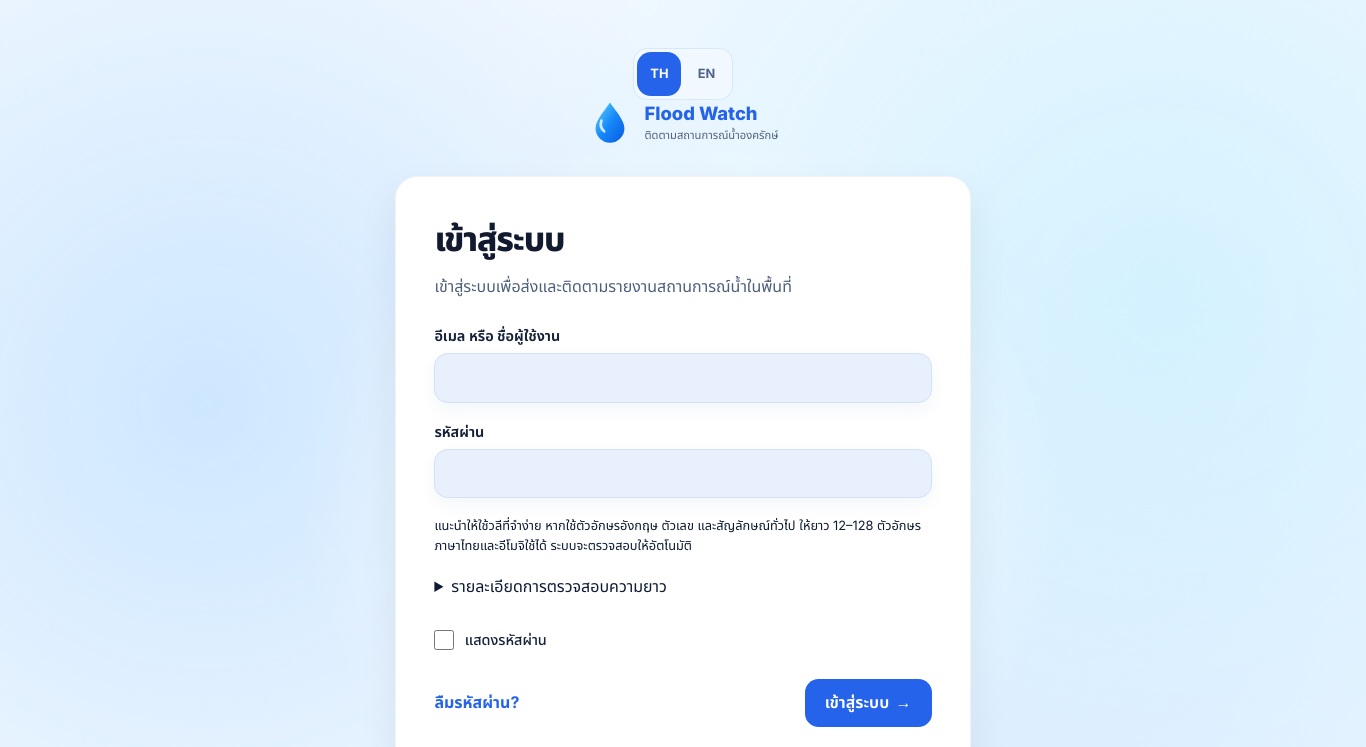
AuthPage › rejects passwords shorter than the backend policy before network access
The width and height of the screenshot is (1366, 747).
Type "user@example.com" into the field labelled "อีเมล หรือ ชื่อผู้ใช้งาน" at (683,378), box left=434, top=353, right=932, bottom=402
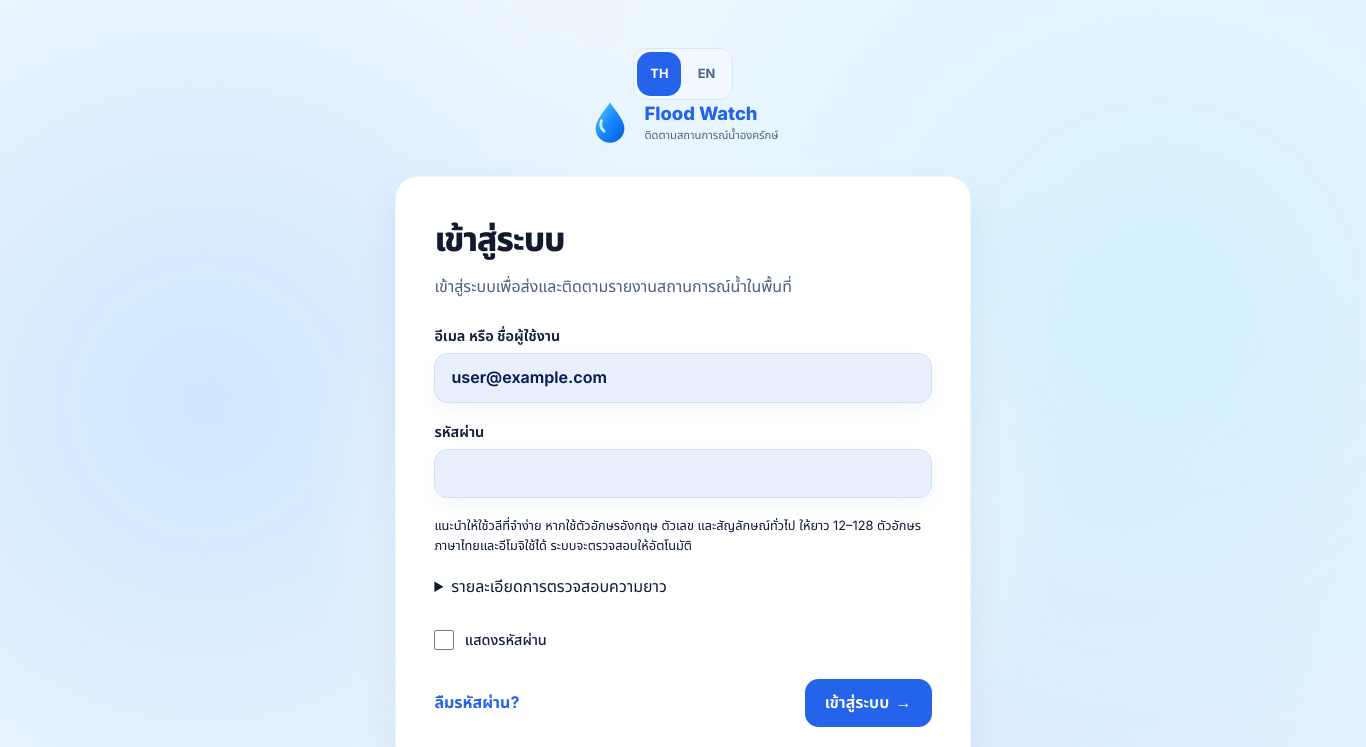
Type "short" into the password field labelled "รหัสผ่าน" at (683,474), box left=434, top=449, right=932, bottom=498
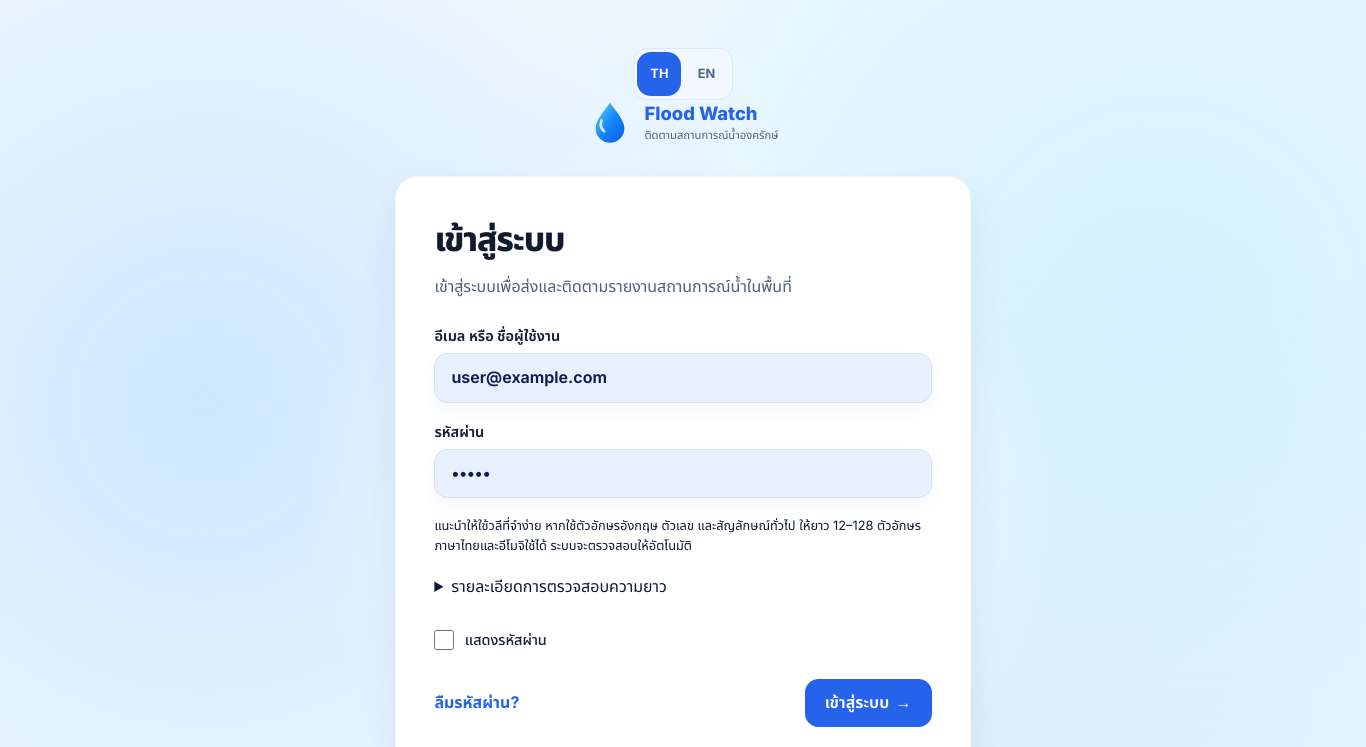
Click the button "เข้าสู่ระบบ →" at (868,703), box left=805, top=679, right=932, bottom=727
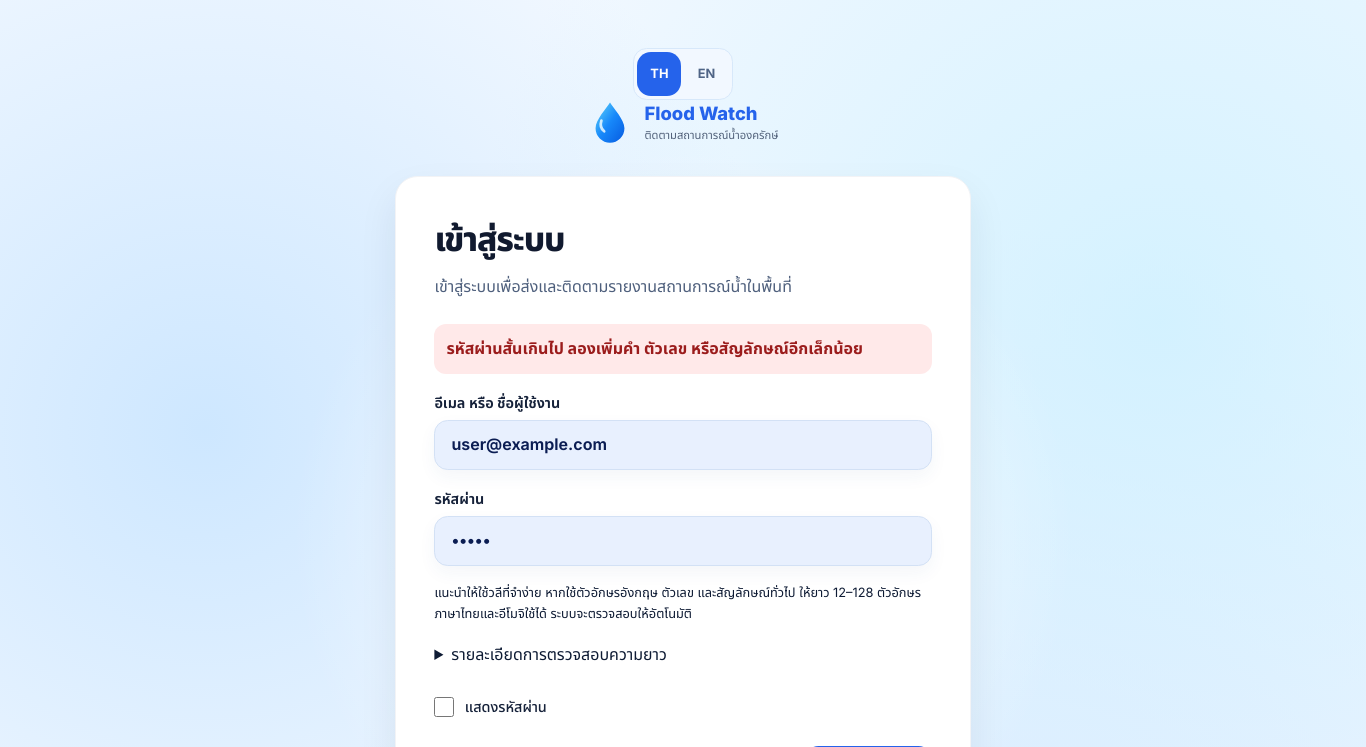
Expected: the message shows "รหัสผ่านสั้นเกินไป", left=446, top=338, right=863, bottom=358
